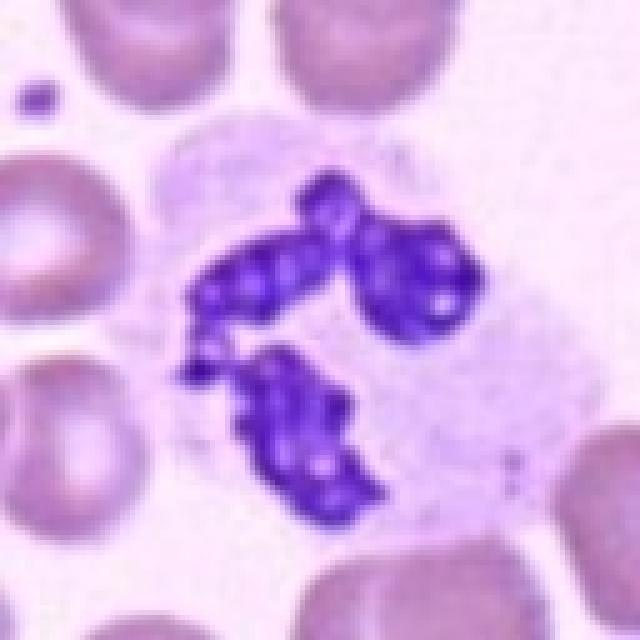neutro: (128, 113, 538, 509)
